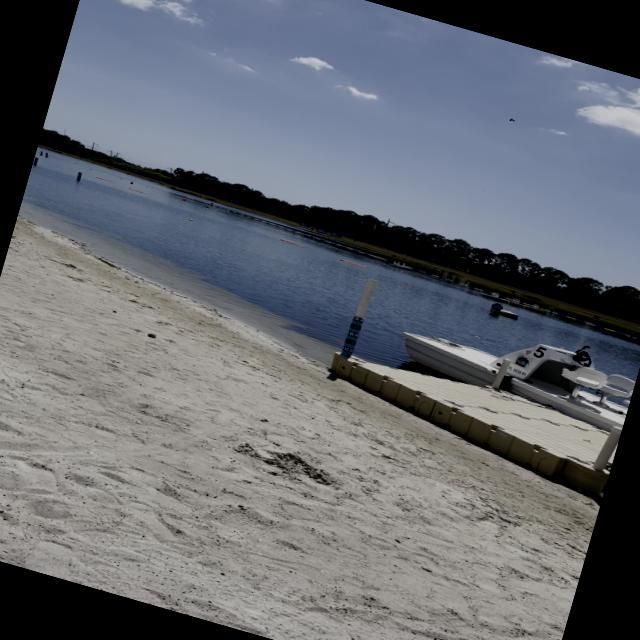buoy: (182, 214, 200, 224), (180, 196, 189, 204), (204, 203, 212, 210)
